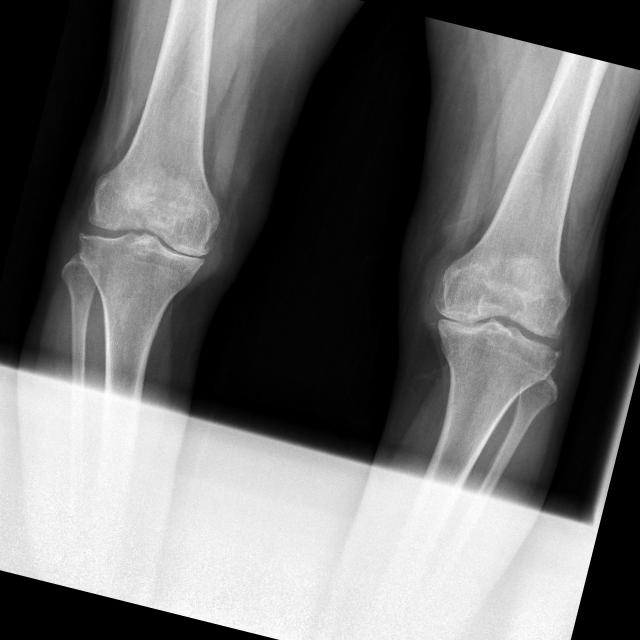Knee: (416, 242, 584, 401), (70, 165, 232, 306)
